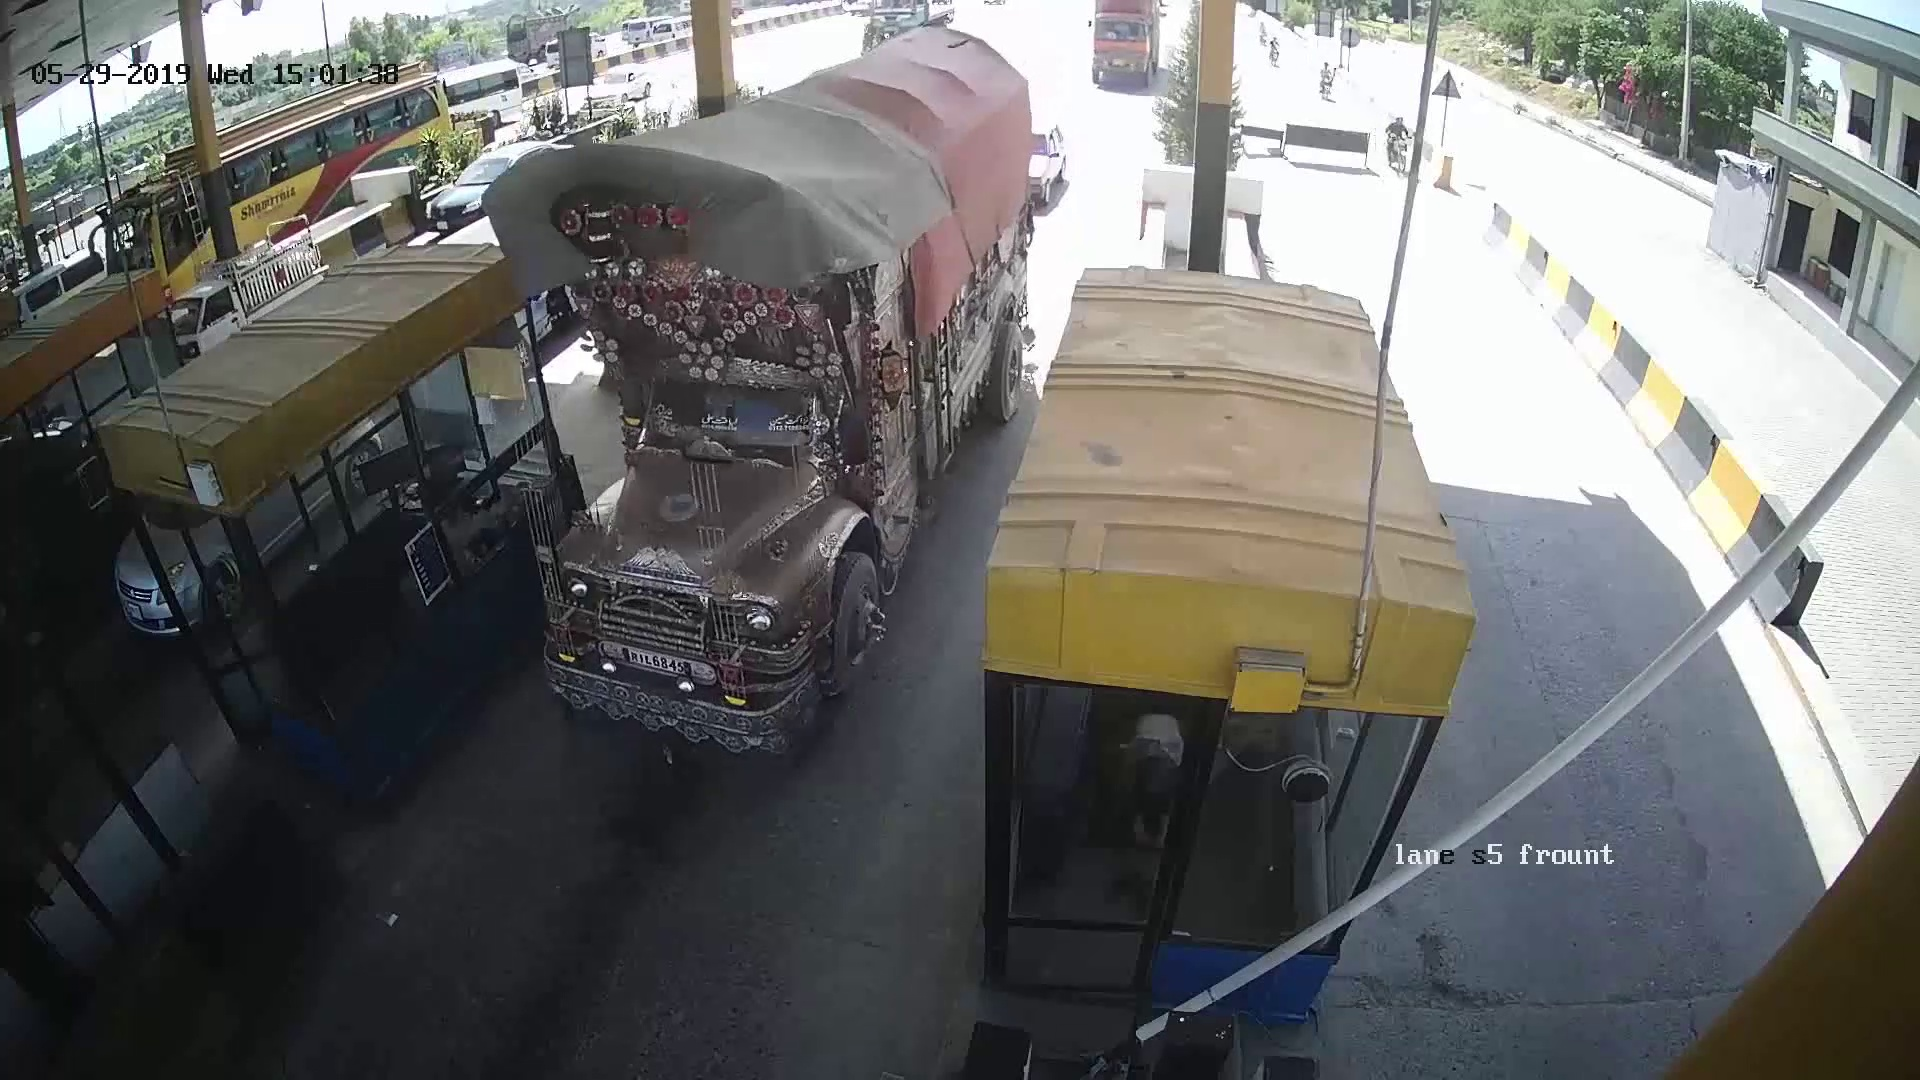truck: (555, 100, 1029, 700), (1067, 7, 1171, 80)
